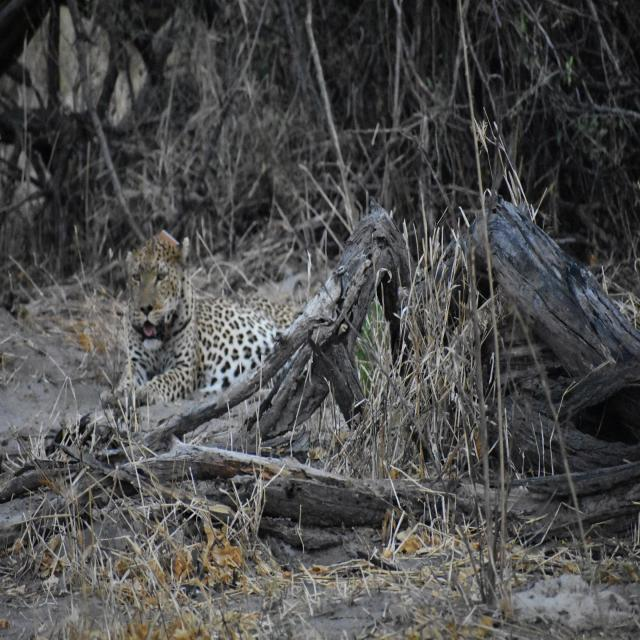Leopard: (97, 235, 288, 411)
